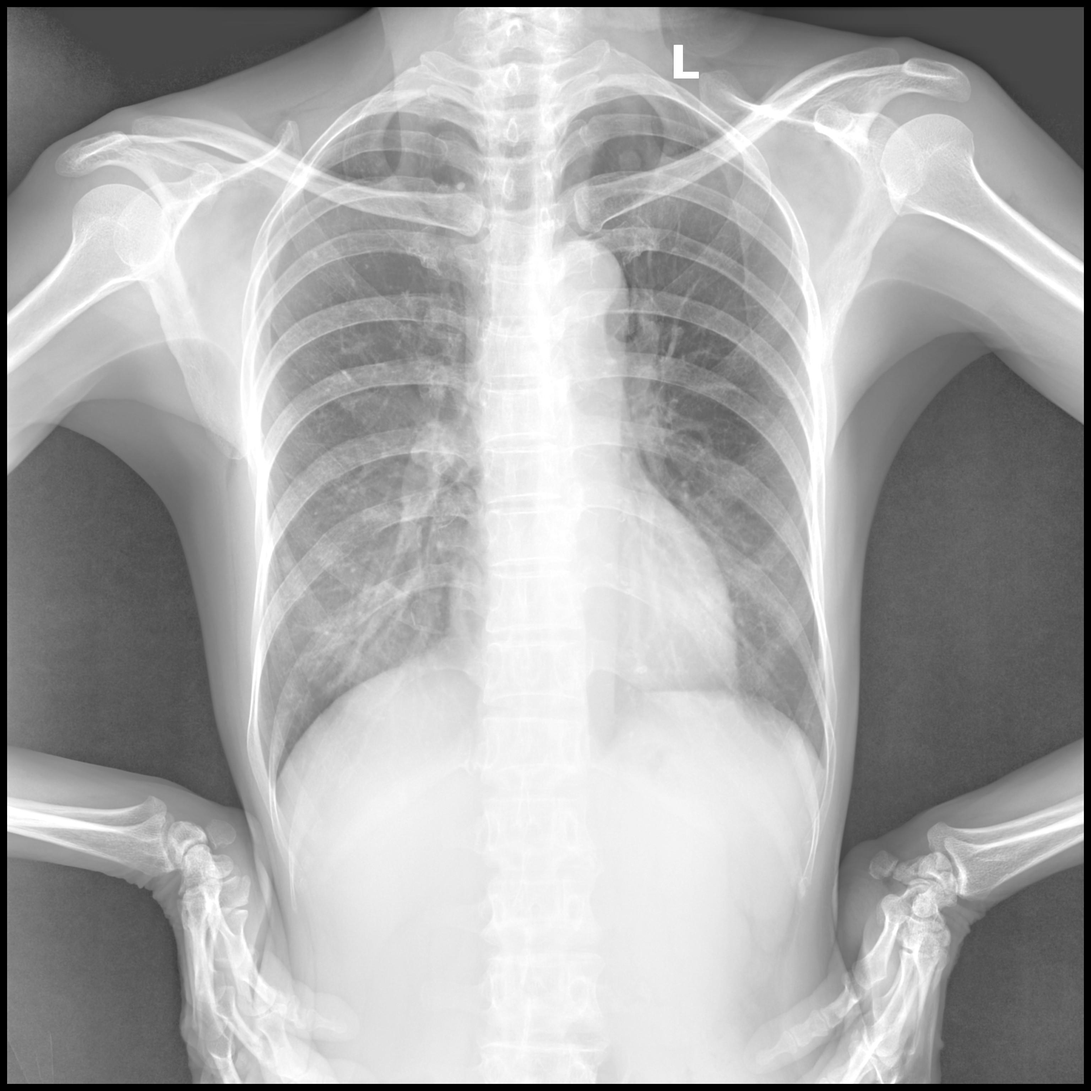Aortic enlargement: (541, 241, 630, 380)
Cardiomegaly: (446, 558, 739, 693)
